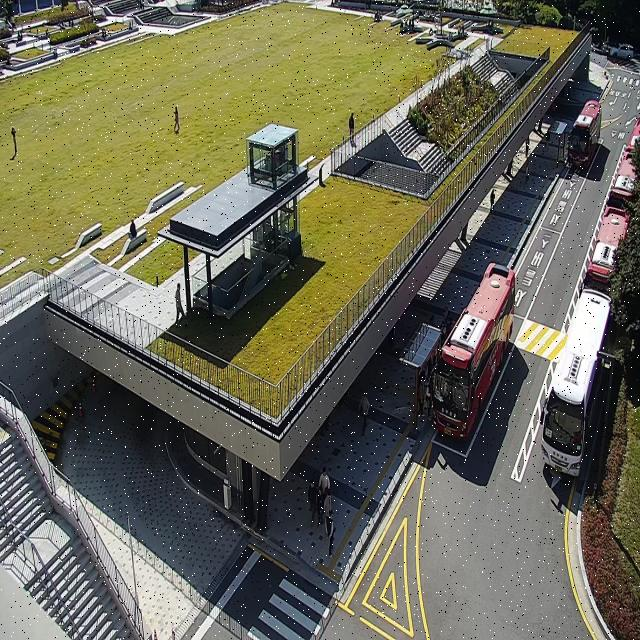queue: (414, 306, 448, 431)
